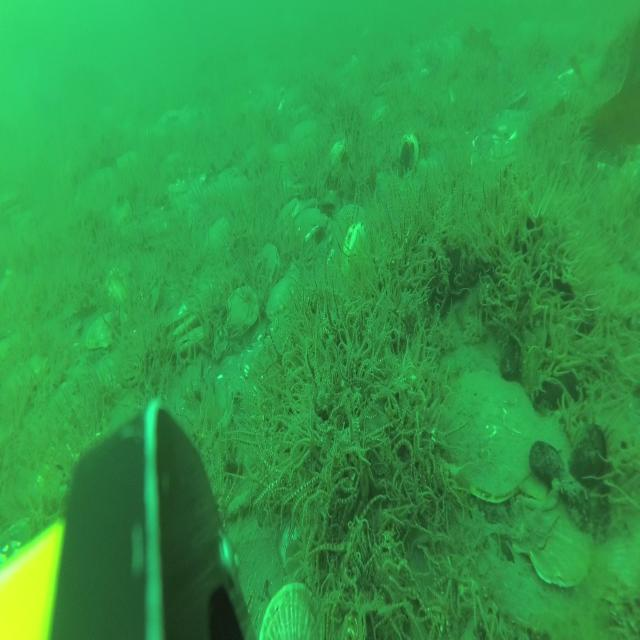scallop: (442, 367, 534, 500), (532, 496, 595, 590), (507, 463, 564, 545), (519, 414, 570, 504), (257, 578, 318, 640), (281, 518, 320, 578), (334, 200, 368, 252), (88, 310, 125, 352), (226, 288, 258, 336), (202, 218, 232, 262), (254, 243, 279, 295), (270, 274, 295, 326), (167, 308, 198, 347), (174, 329, 204, 368), (294, 208, 325, 243), (326, 136, 348, 175), (274, 198, 298, 232), (290, 120, 316, 150), (268, 143, 290, 168)
